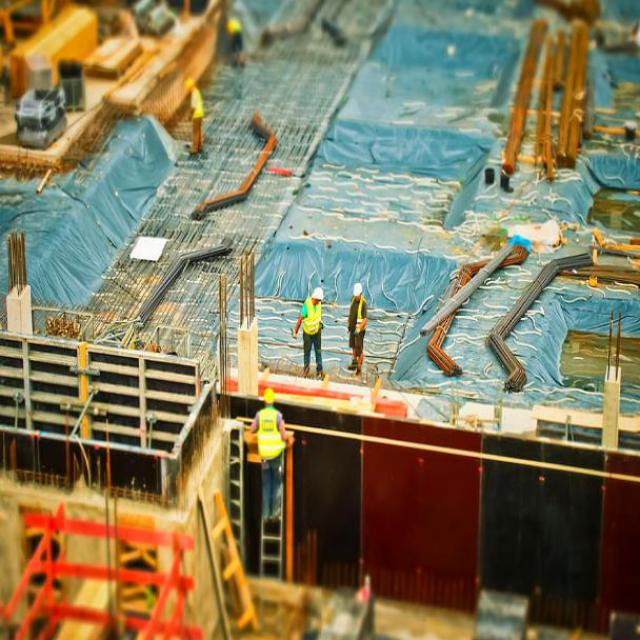helmet: (348, 280, 366, 302), (260, 382, 277, 403), (308, 285, 321, 299)
vest: (257, 409, 282, 457), (348, 300, 375, 338), (302, 299, 322, 347)
